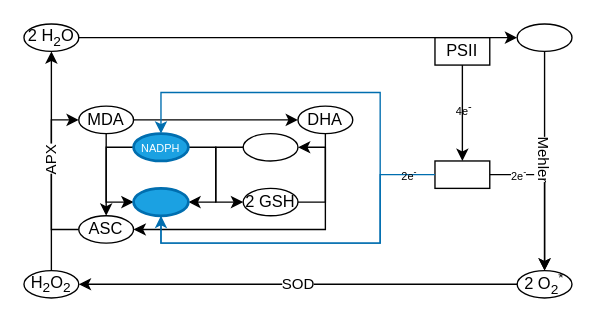
This 596x322 diagram has some shape labels left out. Each missing label, with the centre of its shape:
"GSSG" goes at point (270, 146).
"NADP" goes at point (160, 201).
"O 2" goes at point (544, 37).
"PSI" goes at point (462, 174).
